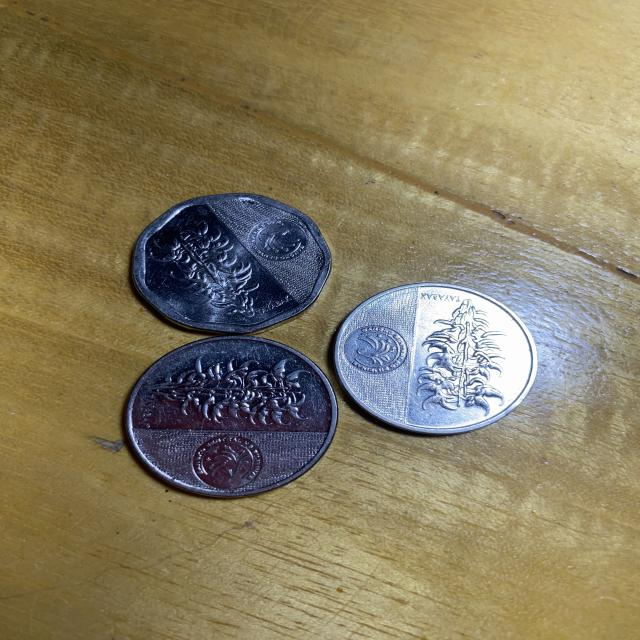5_New_Back: (153, 346, 322, 432), (417, 298, 512, 427)
